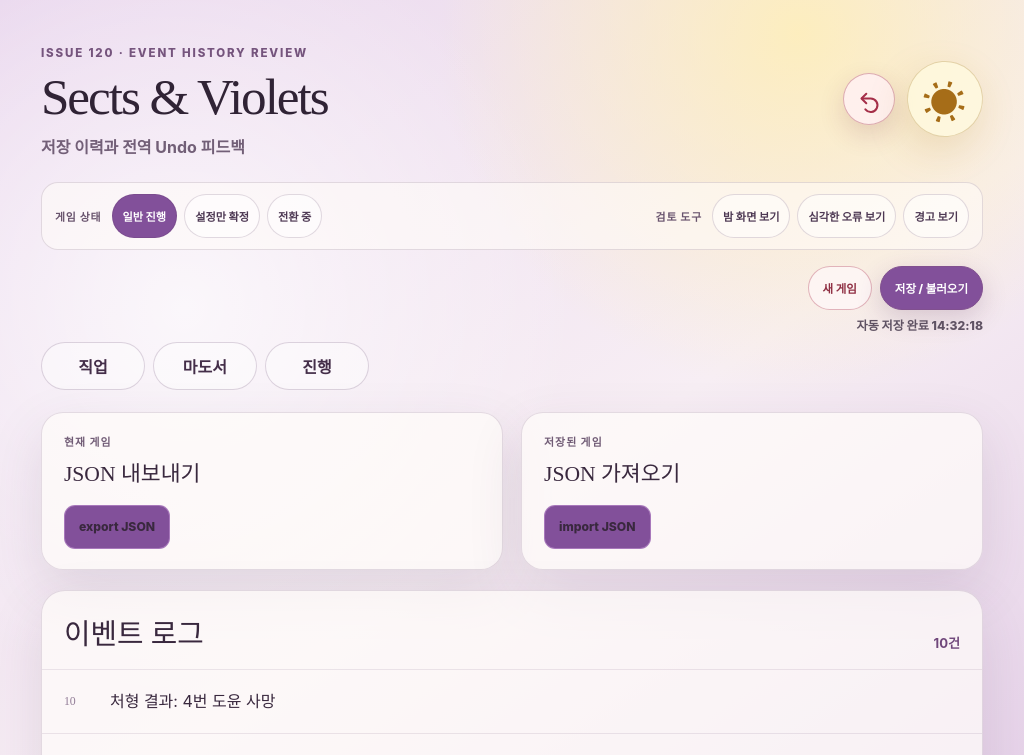
Scenario: shows an always-open scrollable Event Log in newest-first presentation order
Click the button "저장 / 불러오기": coordinates (931, 288) [880,266,983,310]
(page scrolled)
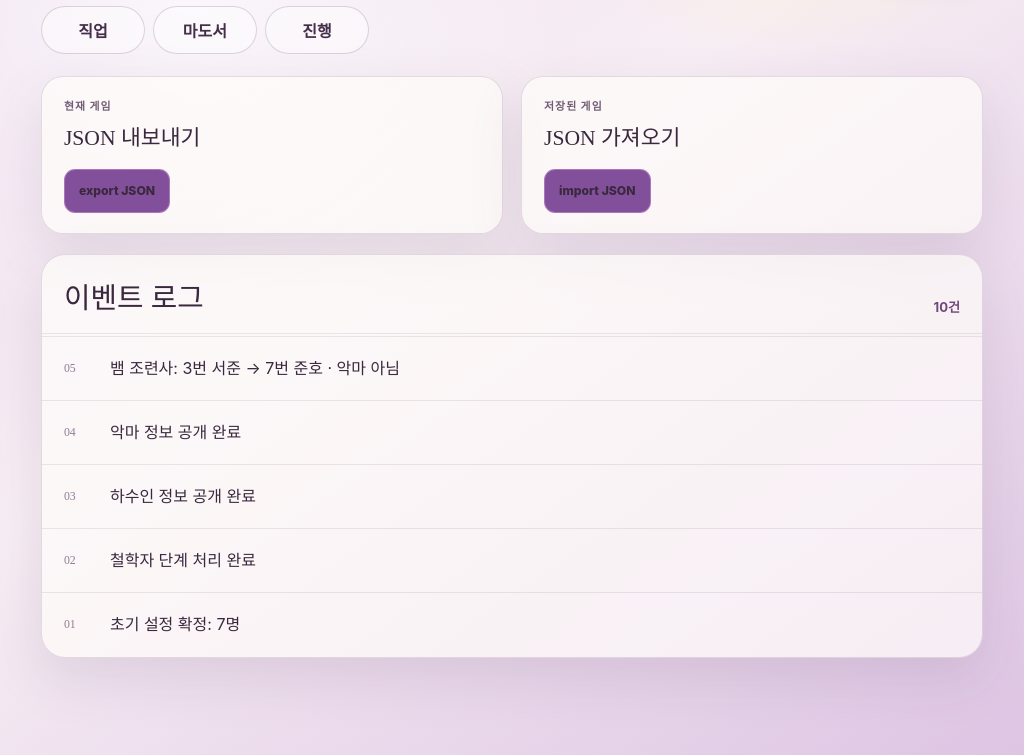
Expected: the text "10건" is shown, [934,297,960,316]
Now the list item "01 초기 설정 확정: 7명" is shown, box [64,614,240,634]
